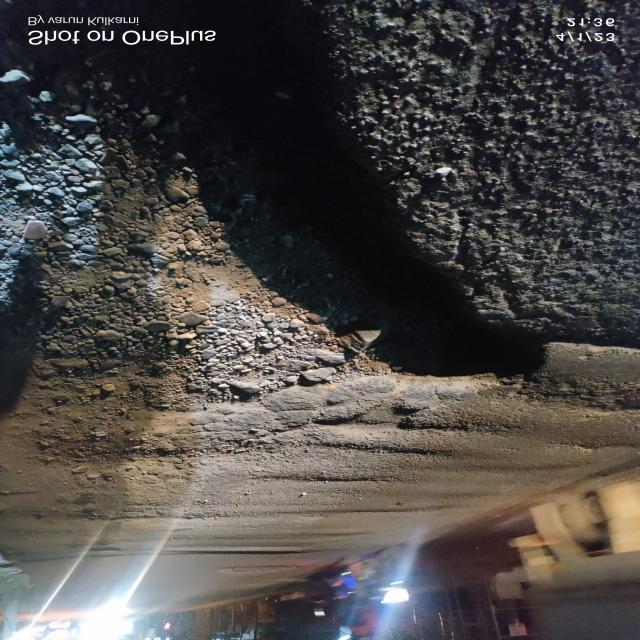potholes: (136, 0, 574, 397), (308, 410, 501, 440), (149, 538, 340, 564), (262, 464, 399, 492)
